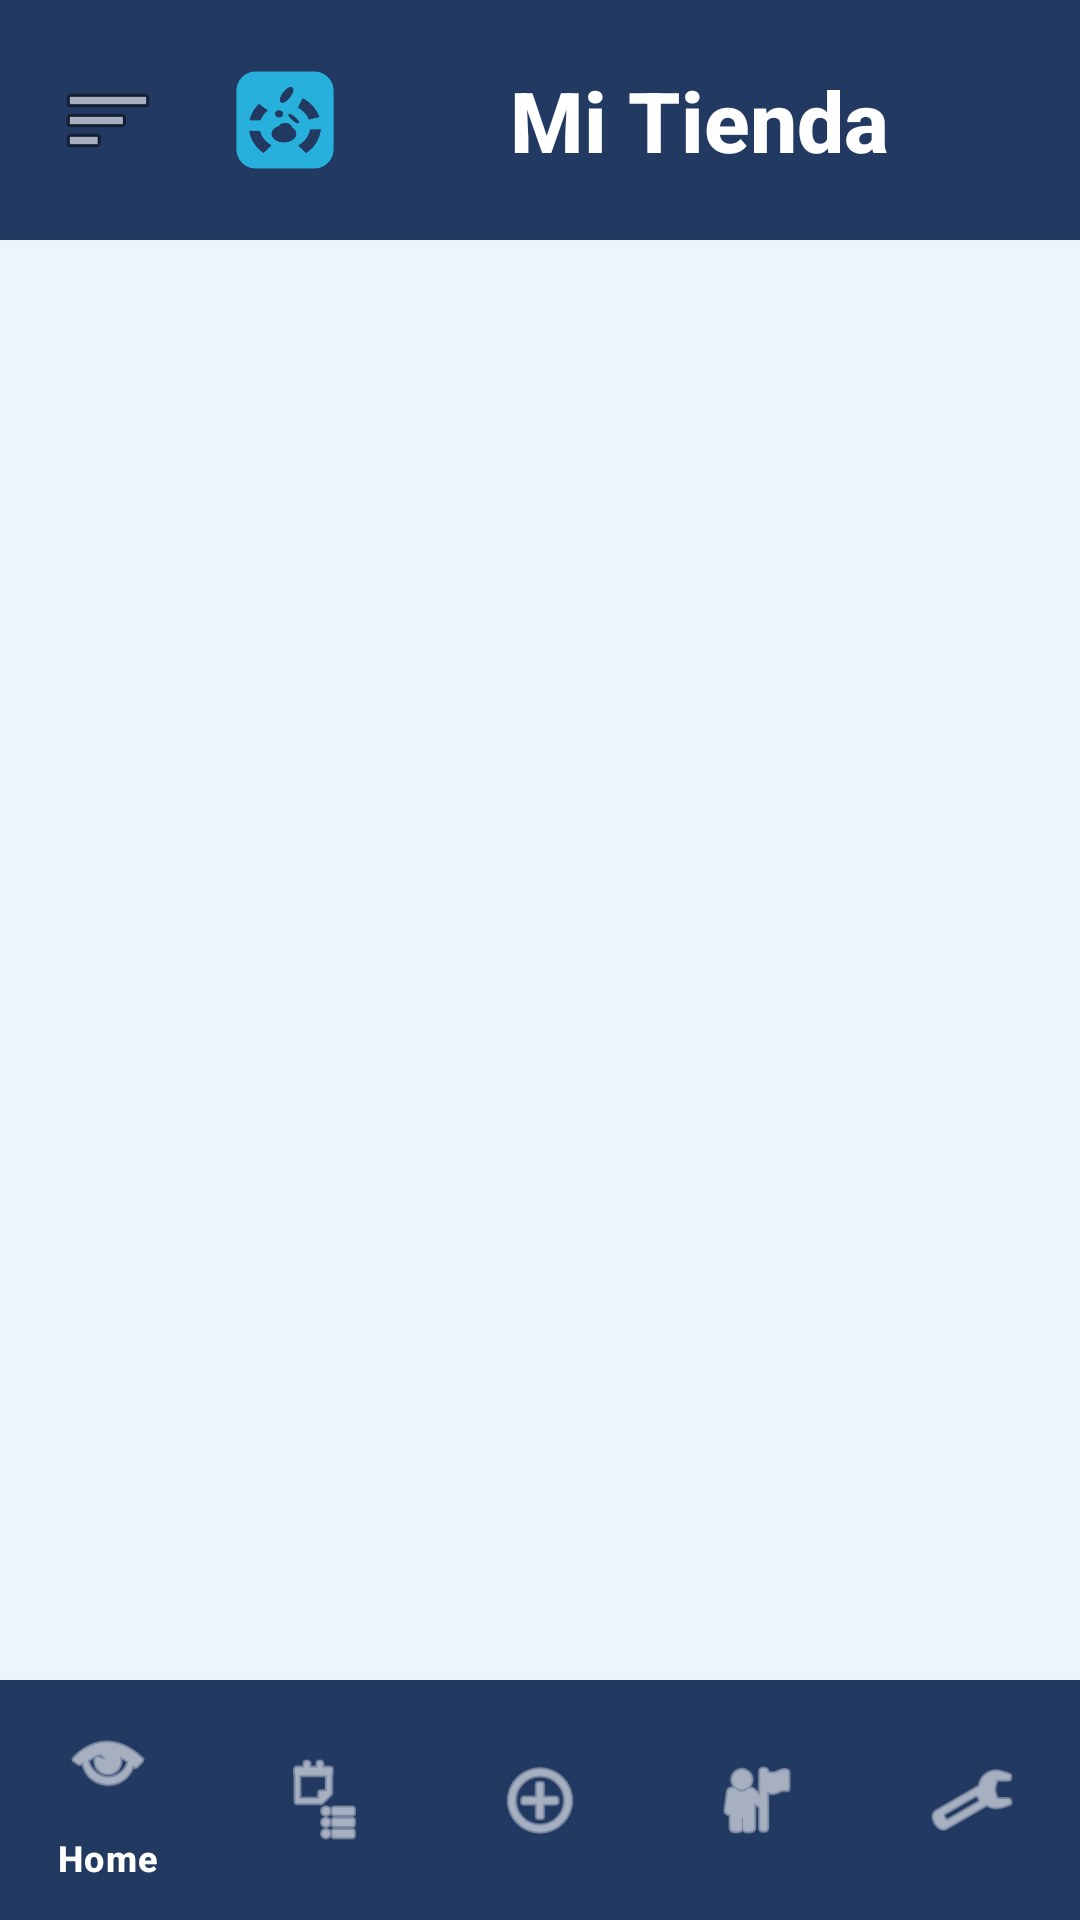

Point at icon controls on the screen. Image size 1080*1920, points as (x=x, y=y).
sort by size: (x=108, y=120)
